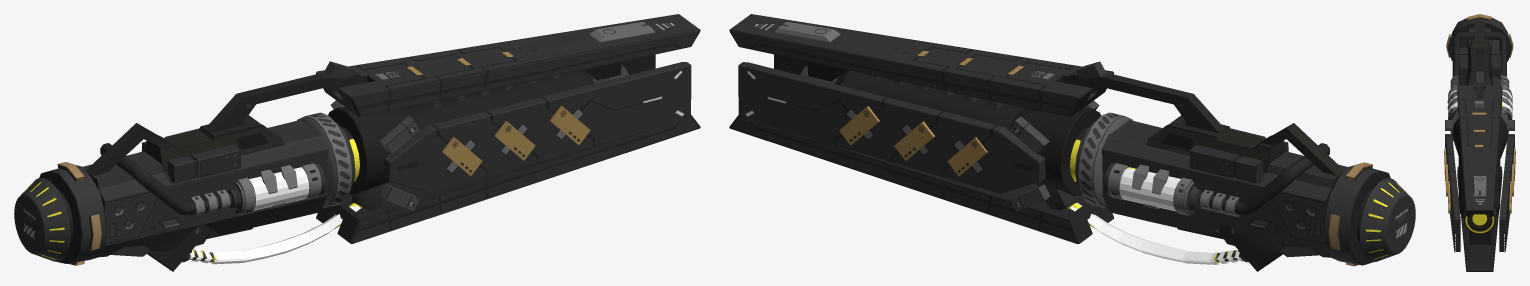
File: E3SleeveMd070011.fbx
3 views of the same model, side by side, from view 1: azimuth 30°, elevation 25°; view 2: azimuth 150°, elevation 25°; view 3: azimuth 270°, elevation 25° (orthographic). The views are drawn at different scales.
Parts seen in each view (by area): view 1: E3SleeveMd070011, E3SleeveMd070011LightPlane1 (×2), E3SleeveMd070011LightPlane3; view 2: E3SleeveMd070011, E3SleeveMd070011LightPlane1 (×2), E3SleeveMd070011LightPlane3; view 3: E3SleeveMd070011, E3SleeveMd070011LightPlane3 (×2).
Part boxes in pixels (x1,y1,x2,y2): E3SleeveMd070011: (14, 14, 700, 271); E3SleeveMd070011LightPlane1 (×2): (188, 204, 360, 264); E3SleeveMd070011LightPlane3: (249, 167, 309, 210); E3SleeveMd070011: (729, 14, 1415, 271); E3SleeveMd070011LightPlane1 (×2): (1070, 202, 1243, 264); E3SleeveMd070011LightPlane3: (1119, 168, 1180, 211); E3SleeveMd070011: (1444, 14, 1515, 271); E3SleeveMd070011LightPlane3 (×2): (1448, 90, 1512, 116).
Size of the model in its own units: 1.52 by 0.393 by 0.2274.
3 materials, 1 textured.
